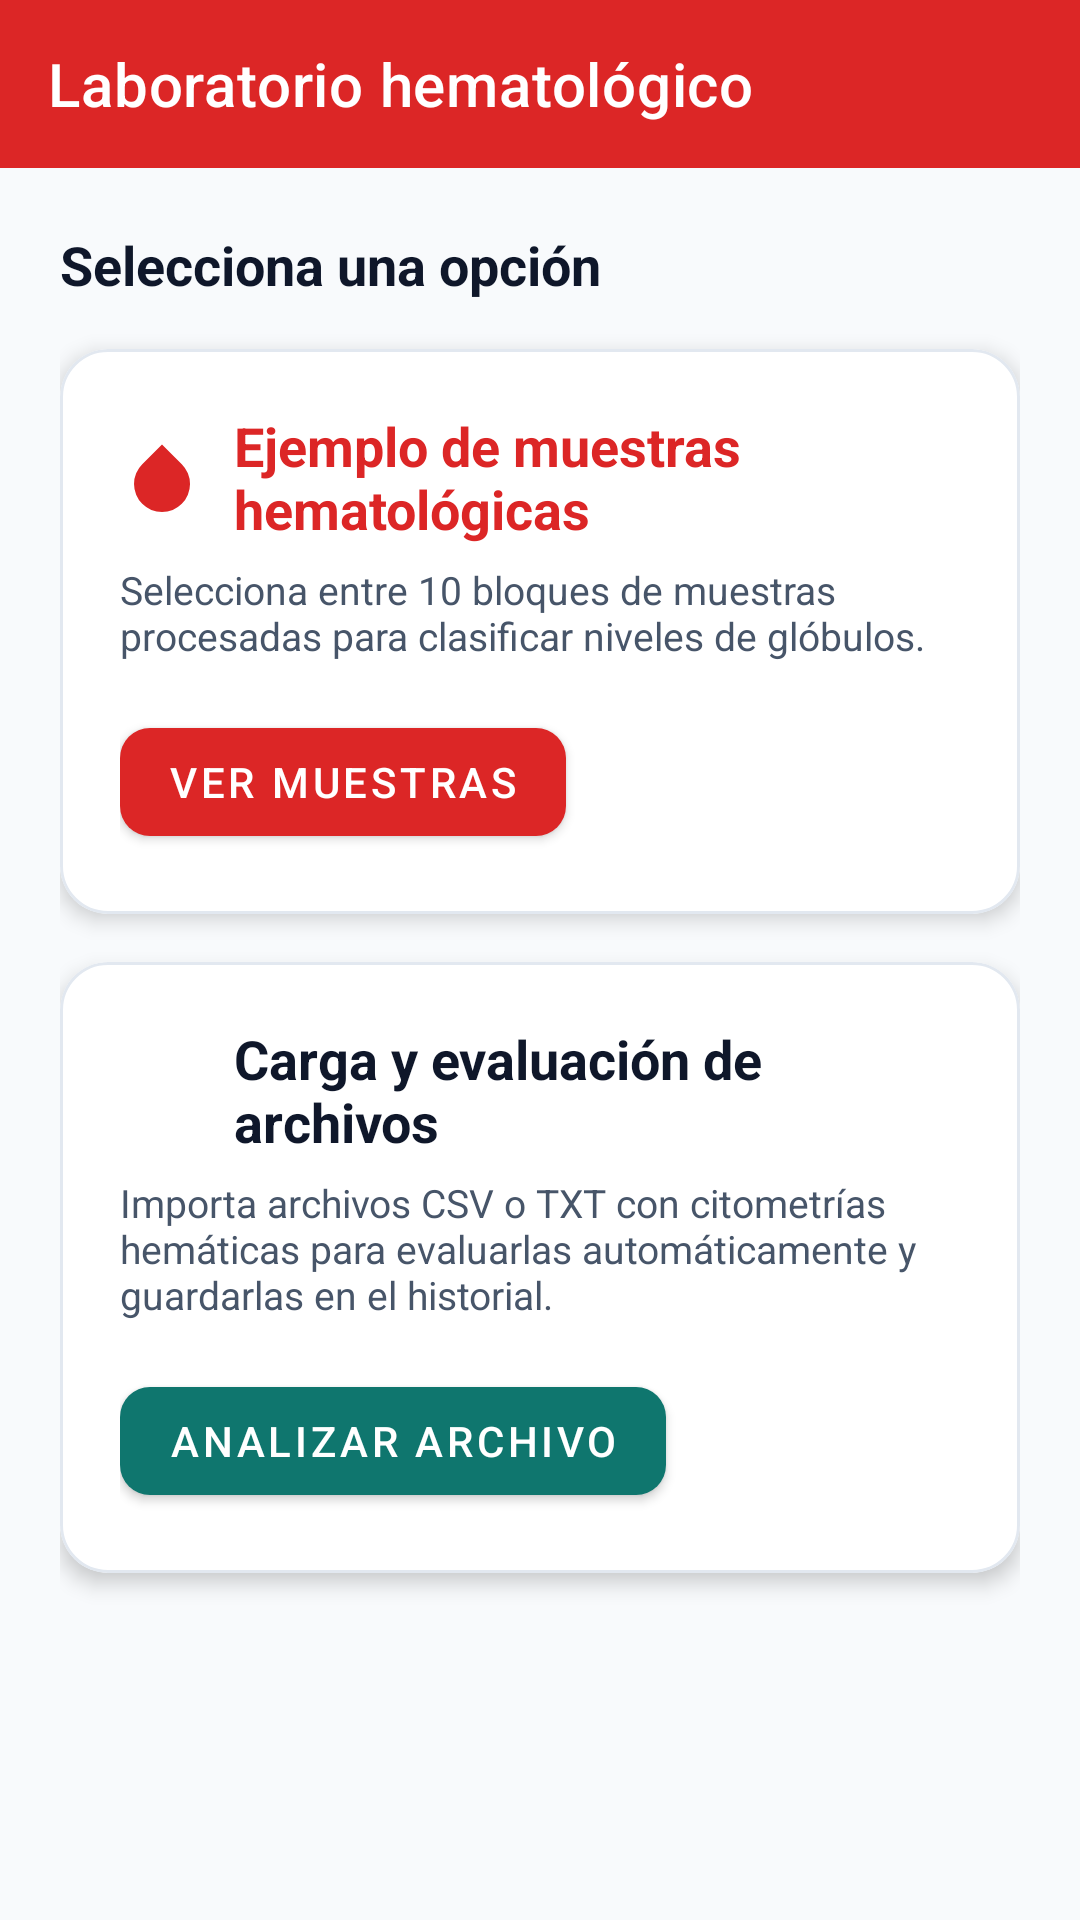

Icons on this 1080 × 1920 Android screen, each with its box as box=[x1, y1, x2, y2]:
blood drop: box=[134, 444, 190, 512]
